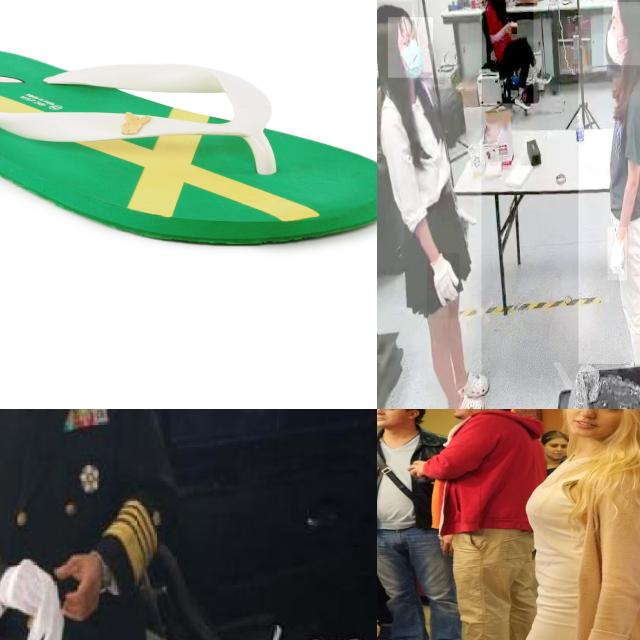Sandals: (0, 45, 377, 249)
face_mask: (388, 17, 433, 78), (603, 2, 640, 65)
hand_glove: (0, 558, 42, 615), (427, 253, 460, 319), (608, 227, 628, 281)
hand_noglove: (53, 553, 101, 621), (503, 19, 517, 34)
head_nohelmet: (377, 2, 412, 23)
person: (377, 0, 482, 409), (0, 409, 165, 640), (578, 0, 640, 364), (482, 0, 534, 104)
